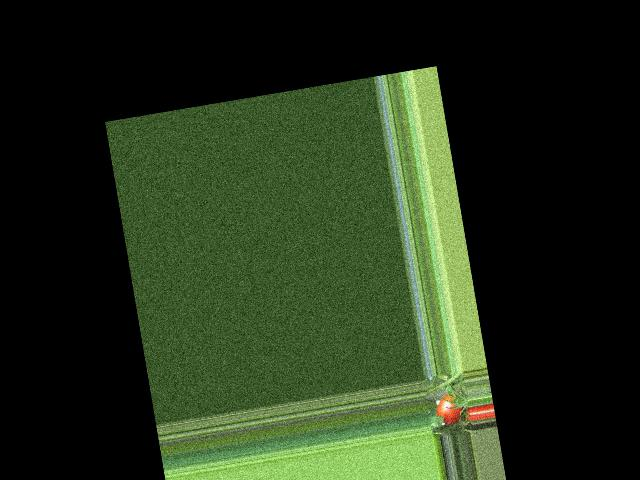tomato: (434, 392, 464, 426)
